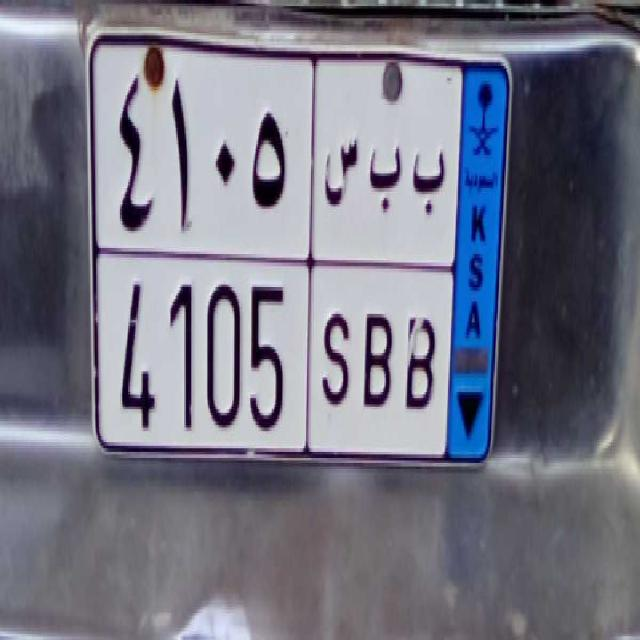license_plate: (95, 246, 448, 460)
